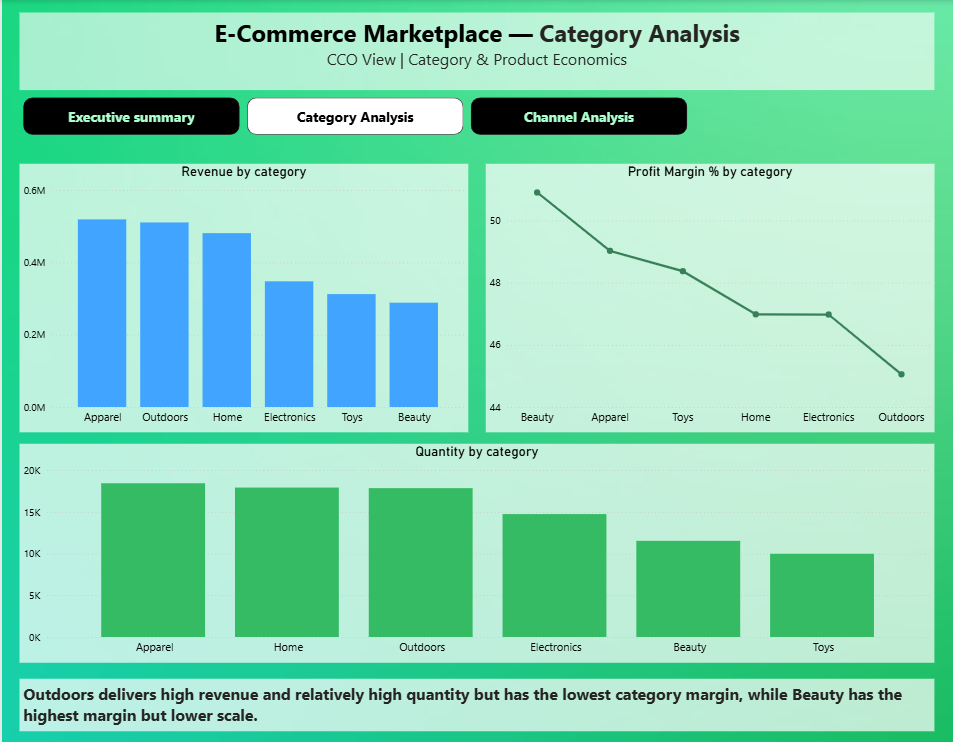

The dashboard page shown, as its layout file describes it:
{"tool":"powerbi","page":{"name":"Category Analysis","canvas":[1280,1000],"ordinal":1},"visuals":[{"type":"lineChart","fields":{"Category":["Product.category"],"Y":["Order Items.Profit Margin %"]},"box":[648.5,219.5,601.5,360.3],"z":0},{"type":"columnChart","fields":{"Category":["Product.category"],"Y":["Order Items.Revenue"]},"box":[23.5,219.5,601.5,360.3],"z":1000},{"type":"textbox","box":[23.5,16.8,1226.5,103.9],"z":2000},{"type":"pageNavigator","box":[28.5,130.7,891.4,50.3],"z":3000},{"type":"clusteredColumnChart","title":"Quantity by category","fields":{"Category":["Product.category"],"Y":["Sum(Order Items.quantity)"]},"box":[23.5,594.8,1226.5,293.2],"z":4000},{"type":"textbox","box":[23.5,909.9,1226.5,70.4],"z":5000}]}

Visuals, with their boxes in screenshot pixels (x1, y1, x2, y2), scaled from the page's 1280x1000 canvas onto the 953x742 screenshot:
lineChart - Product.category x Order Items.Profit Margin %: [483,163,931,430]
columnChart - Product.category x Order Items.Revenue: [17,163,465,430]
textbox: [17,12,931,90]
pageNavigator: [21,97,685,134]
"Quantity by category" clusteredColumnChart: [17,441,931,659]
textbox: [17,675,931,727]
